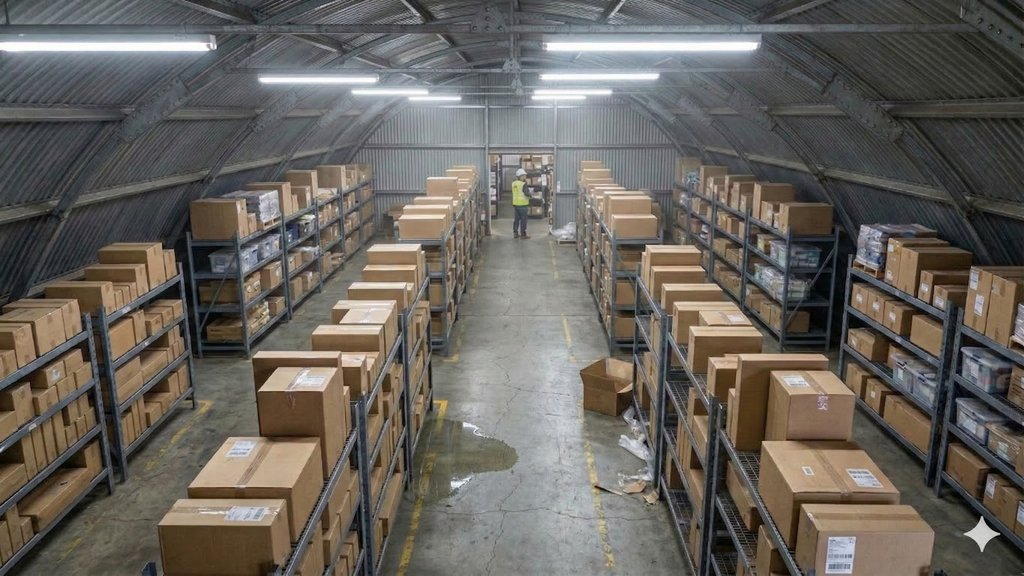obstacle: (569, 337, 644, 420)
person: (510, 166, 543, 245)
safety_helmet: (514, 168, 529, 177)
safety_vest: (510, 182, 532, 206)
spill: (406, 410, 522, 503)
